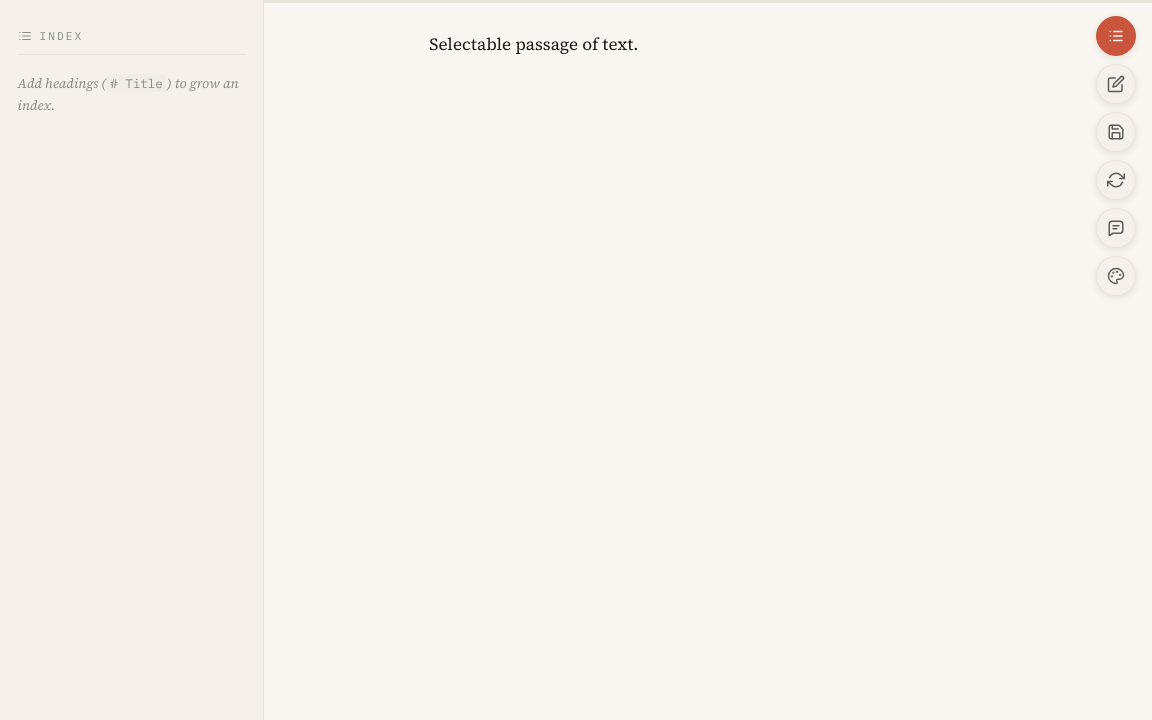
highlight-to-comment mode › an open pane captures selections without arming the mode
The width and height of the screenshot is (1152, 720).
Click the button named "Show comments" at (1116, 228), box [1096,208,1136,248]
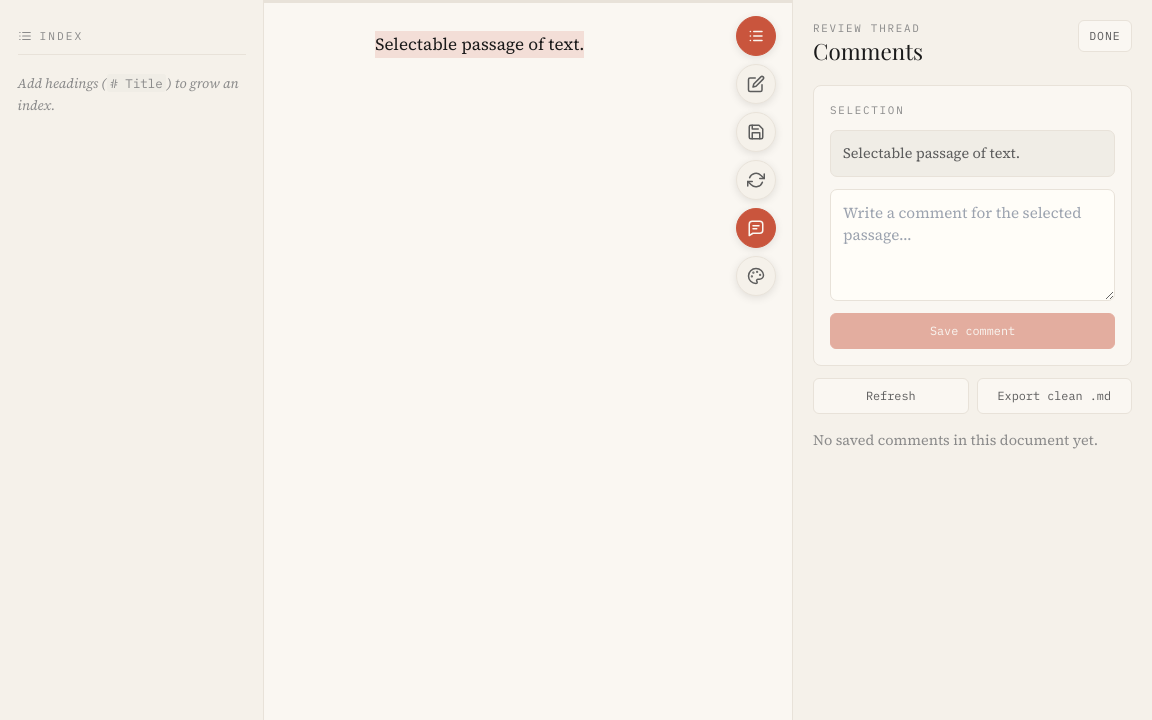
Check: the element "Comments" is shown, box [792,0,1151,719]
Check: the element named "add comment" shows "Selectable passage of text.", box [843,143,1020,163]
Check: the text box named "comment text" is enabled, box [830,189,1115,301]
